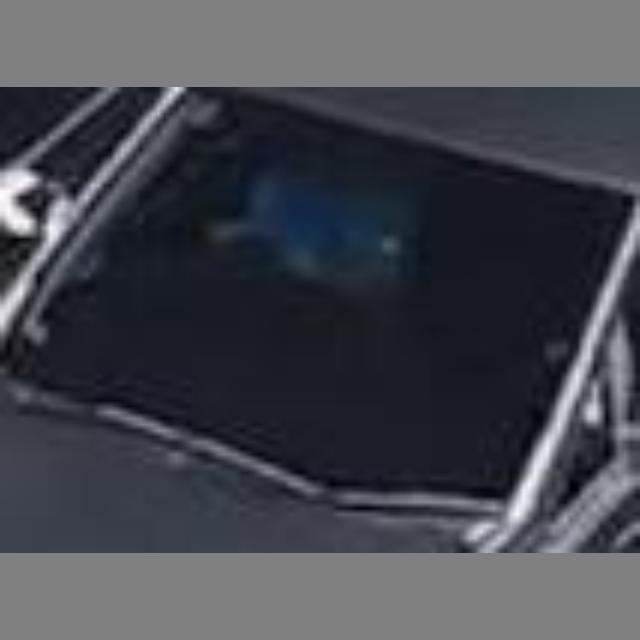tidak-pakai: (215, 141, 419, 332)
